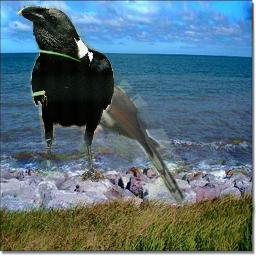Crow: (16, 5, 114, 182)
Cuckoo: (61, 41, 188, 204)
